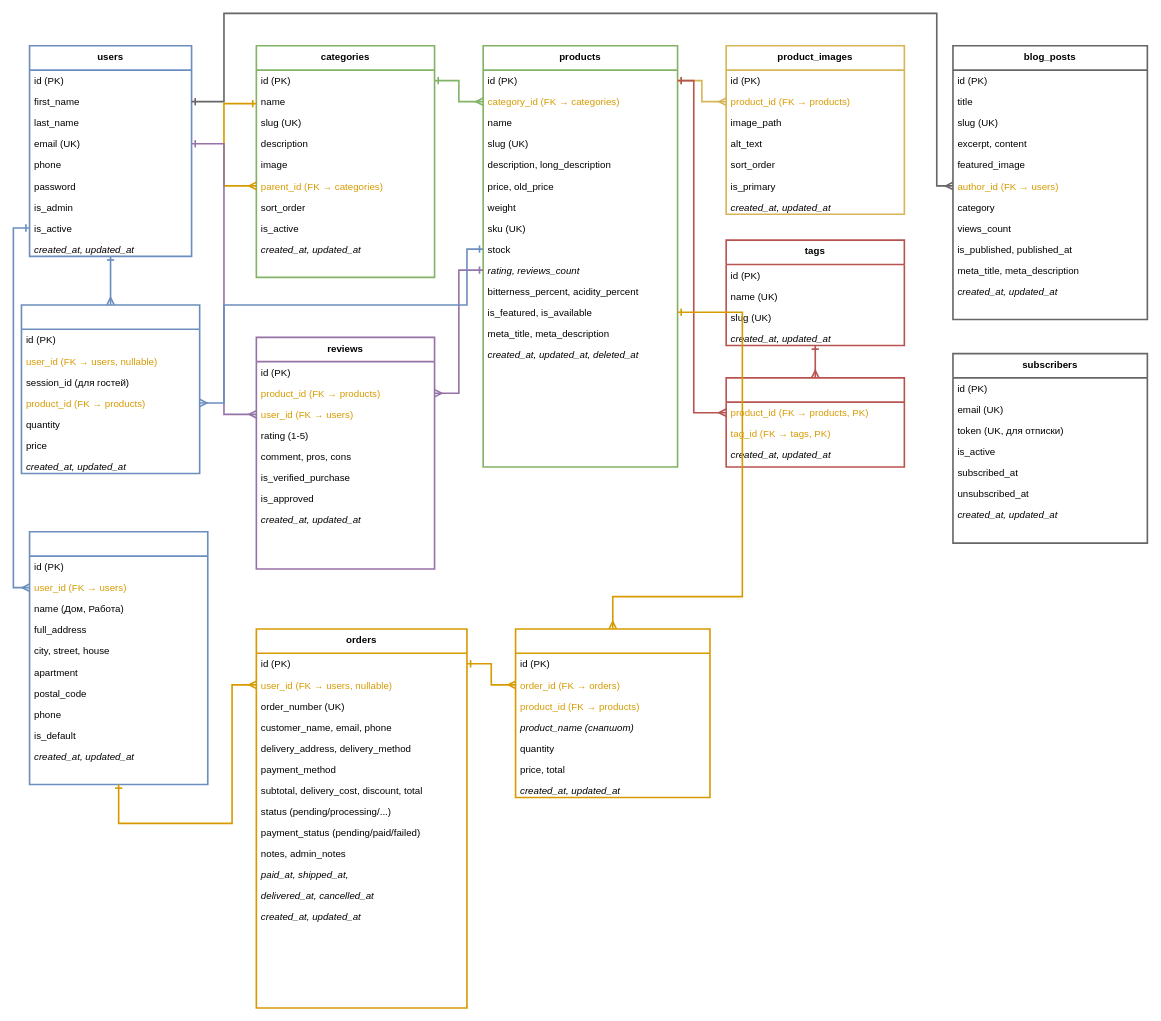
Image size: 1161x1021. Some labels were removed from this diagram. The shapes that lost their labels are listed below. From the top down, each one's box as (x1, y1, x2, y2) in pixels, then its label:
(20, 304, 200, 474): cart_items
(725, 377, 905, 467): product_tag
(28, 531, 208, 785): addresses
(514, 628, 710, 798): order_items
